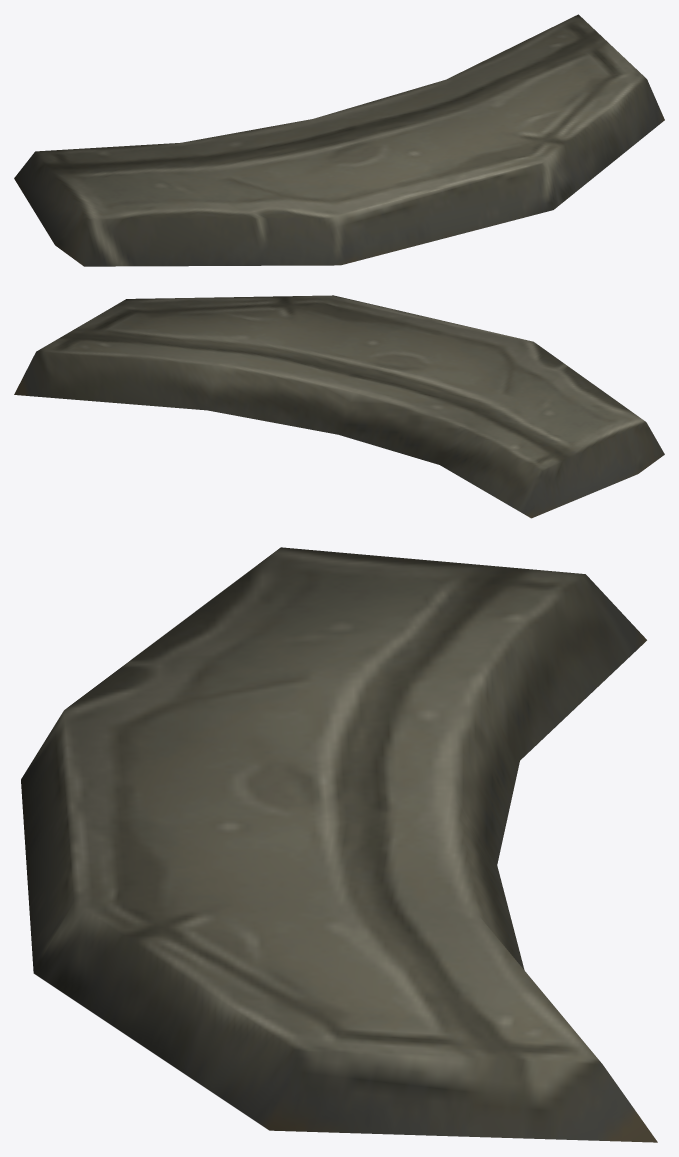
The model's file is sn_longmai_yuantai_002.FBX.
3 renders of one model, top to bottom at view 1: azimuth 30°, elevation 25°; view 2: azimuth 150°, elevation 25°; view 3: azimuth 270°, elevation 25°, orthographic. The views are drawn at different scales.
Parts seen in each view (by area): view 1: sn_longmai_yuantai_002; view 2: sn_longmai_yuantai_002; view 3: sn_longmai_yuantai_002.
Part boxes in pixels (x1,y1,x2,y2): sn_longmai_yuantai_002: (14,14,664,266); sn_longmai_yuantai_002: (14,295,664,518); sn_longmai_yuantai_002: (21,547,657,1142).
Bounding box in the file's own units: 307 × 18.75 × 154.
